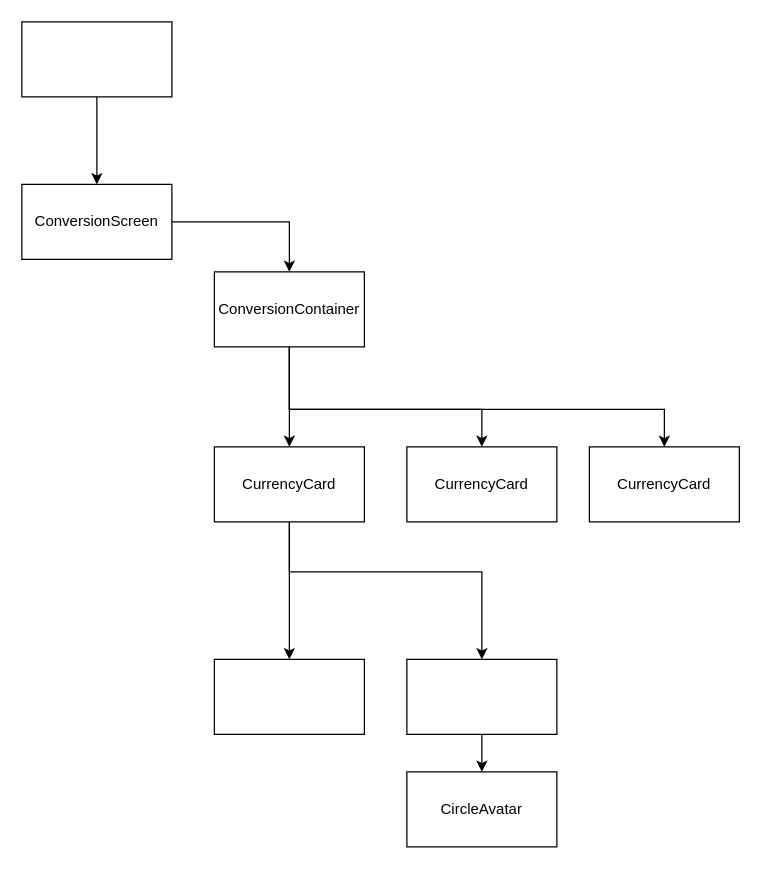
This 761x869 diagram has some shape labels left out. The box of each missing label's shape, as (x1, y1, x2, y2) in pixels:
GestureDetector: (406, 658, 557, 734)
main: (21, 21, 172, 97)
Text Input Field: (213, 658, 364, 734)
